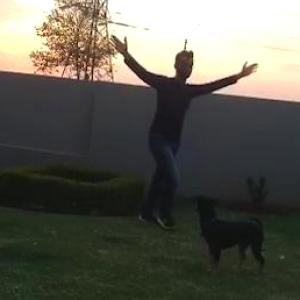takeoff: (109, 39, 251, 218)
